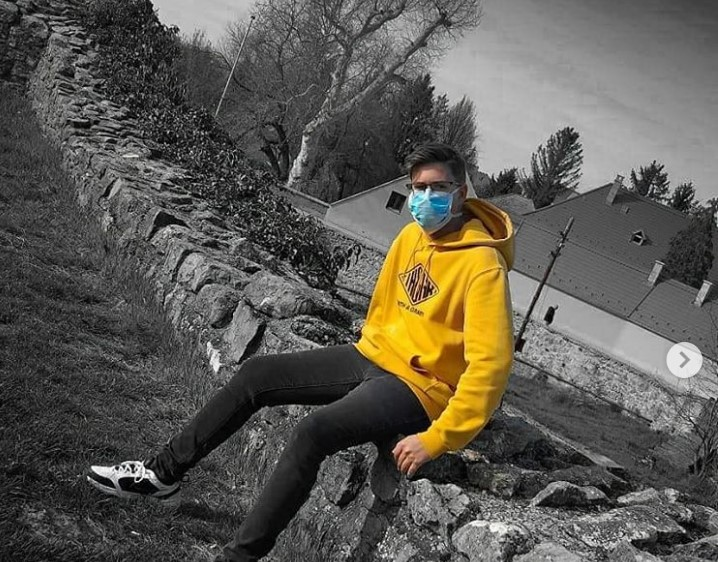face_with_mask: (404, 157, 472, 237)
